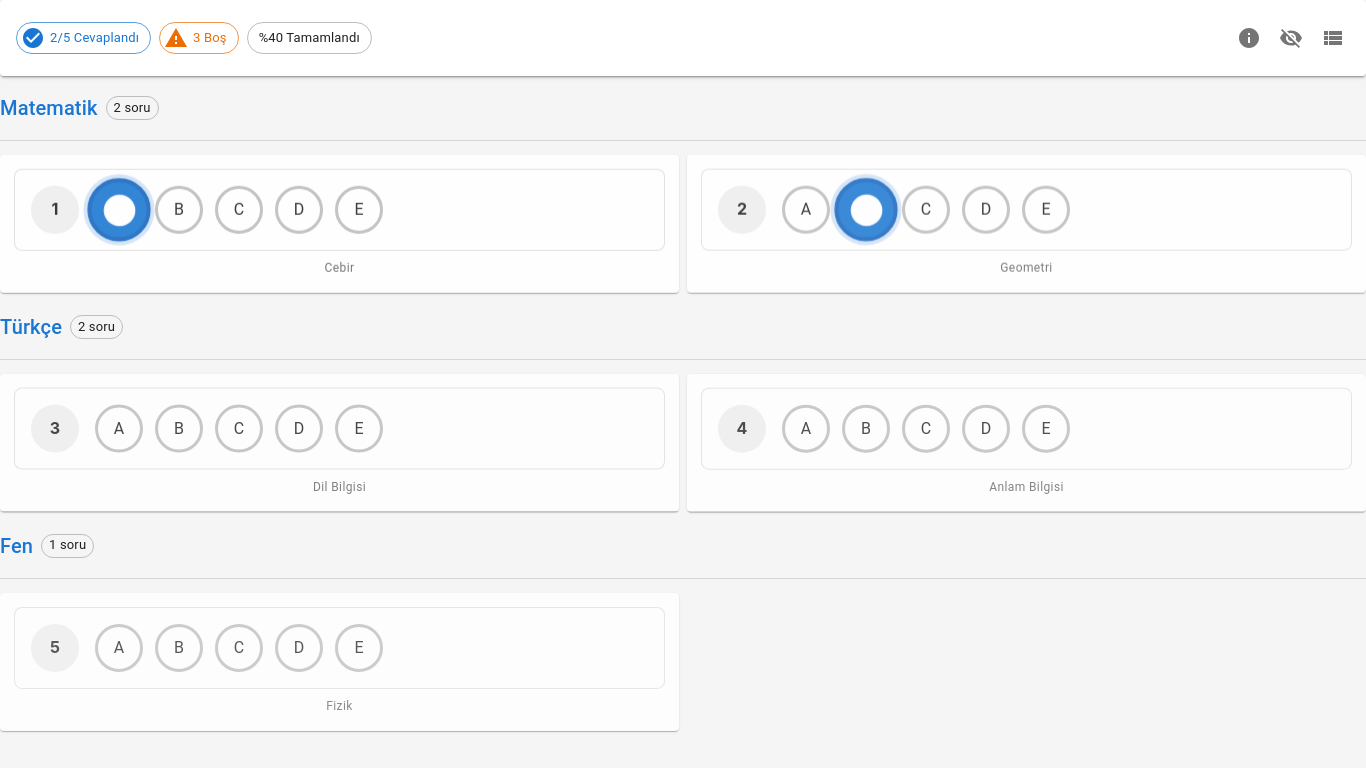
BubbleSheetPanel › Bilgi Dialog › bilgi dialogunu kapatır
The image size is (1366, 768).
Click the button with test id "InfoIcon": (1249, 38) [1232,16,1266,60]
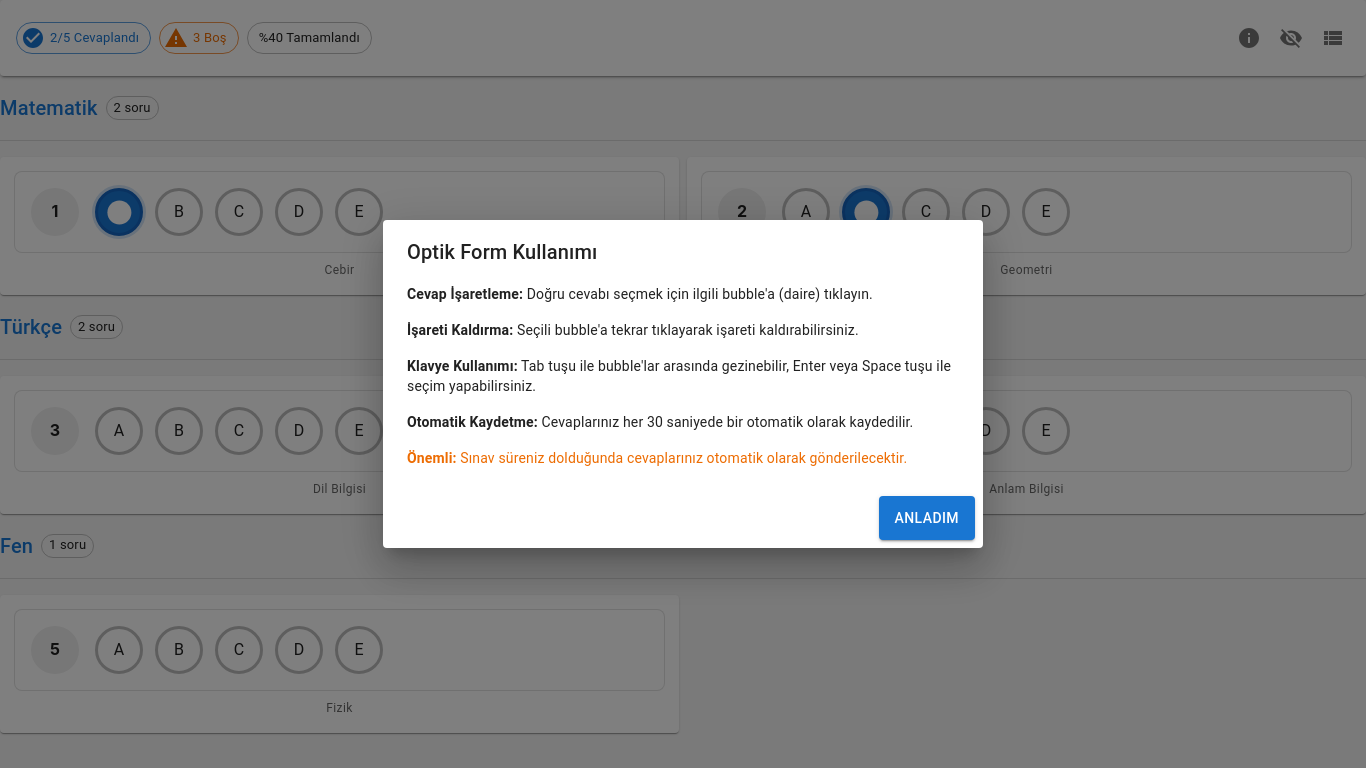
Check: the heading "Optik Form Kullanımı" is shown, box [407,240,598,264]
Click the button "Anladım": (927, 518) [878,496,975,540]
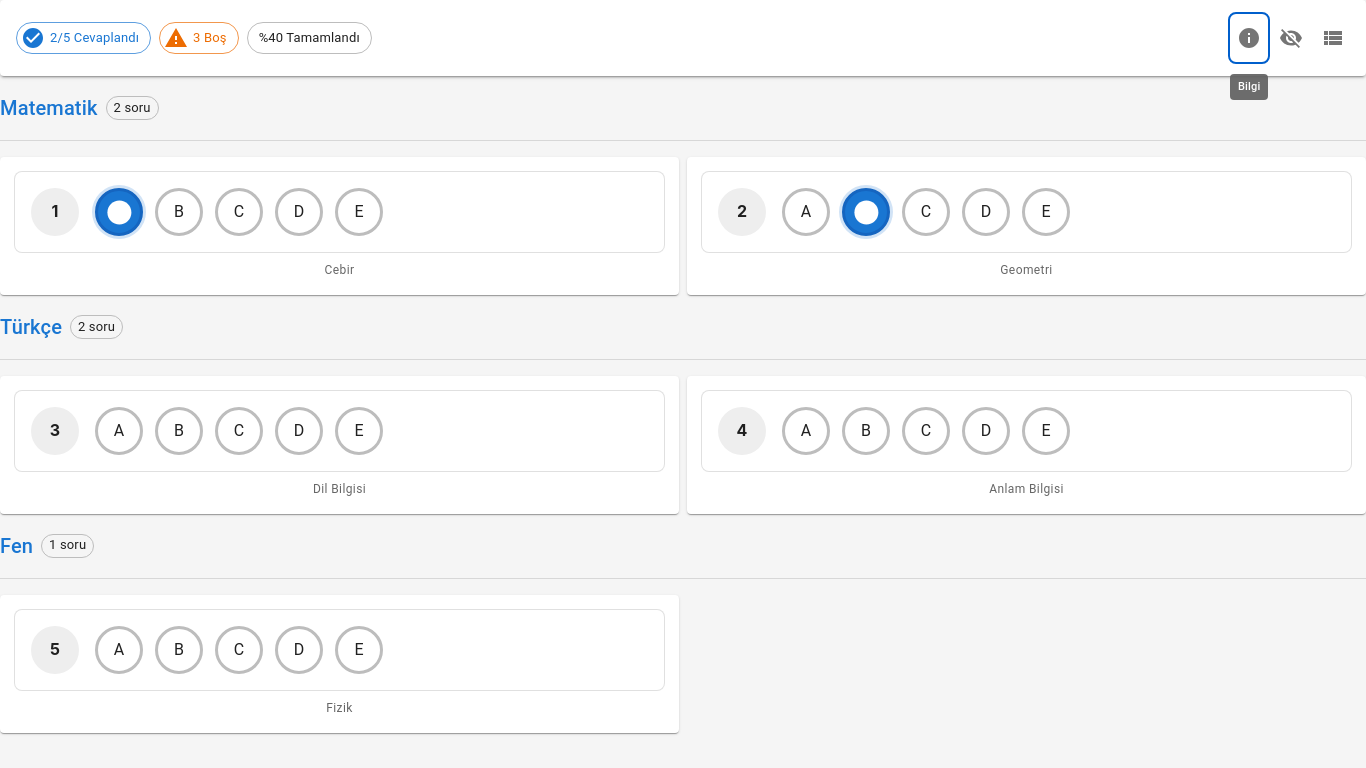
Check: the heading "Optik Form Kullanımı" is gone
